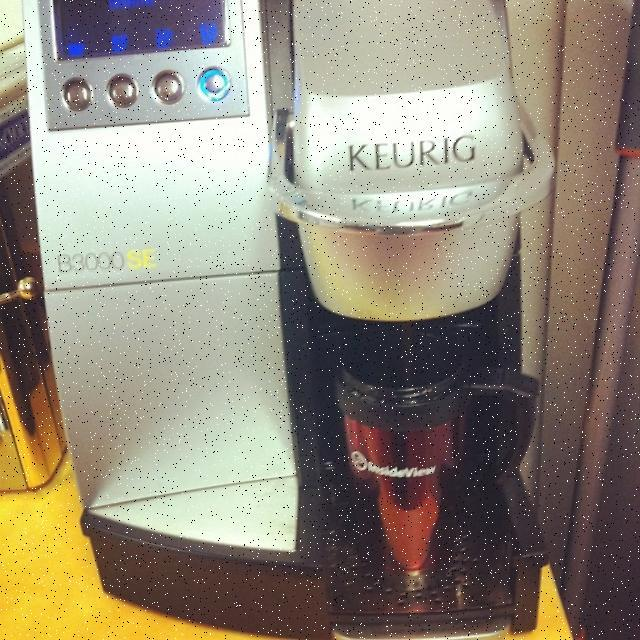Coffee-Machine: (8, 0, 560, 640)
